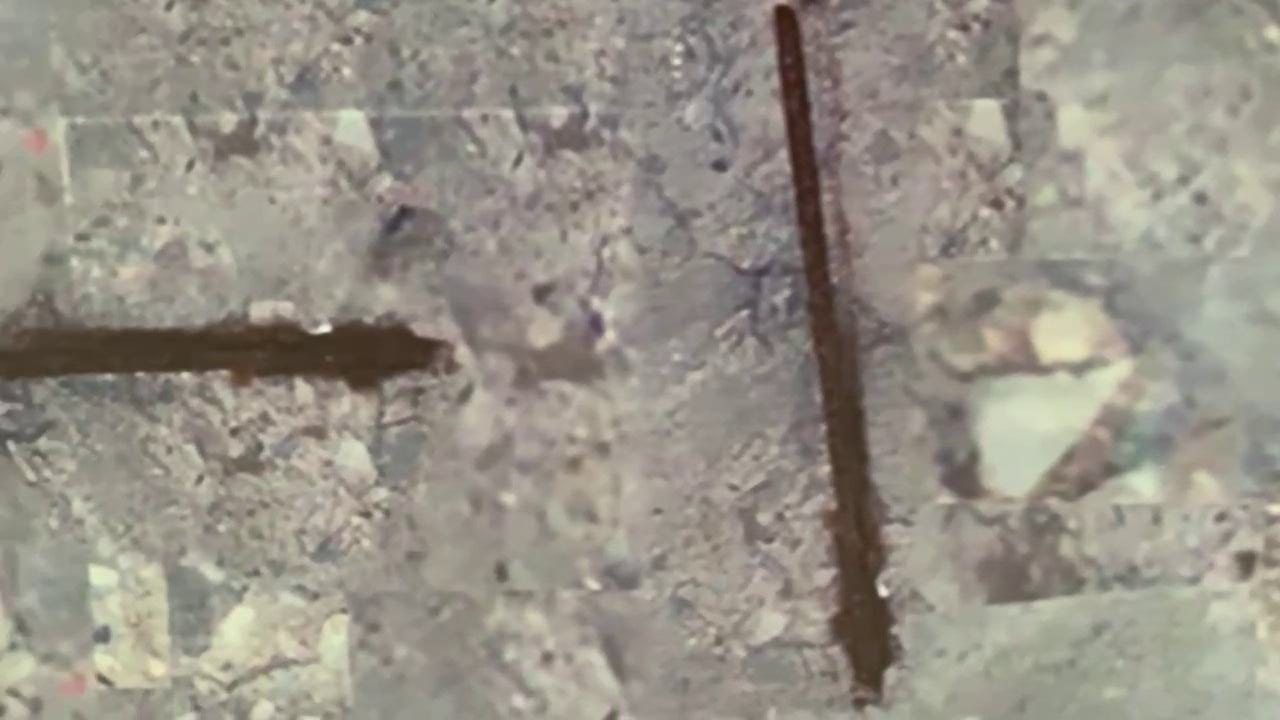Exposed reinforcement: (771, 1, 895, 720), (1, 315, 449, 392)
